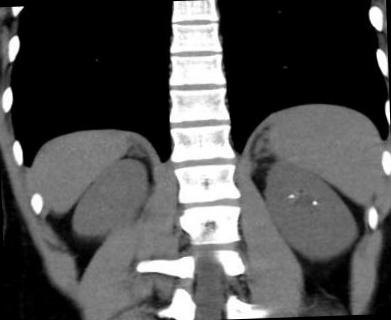Tas_Var: (310, 198, 320, 206), (287, 191, 295, 199)
